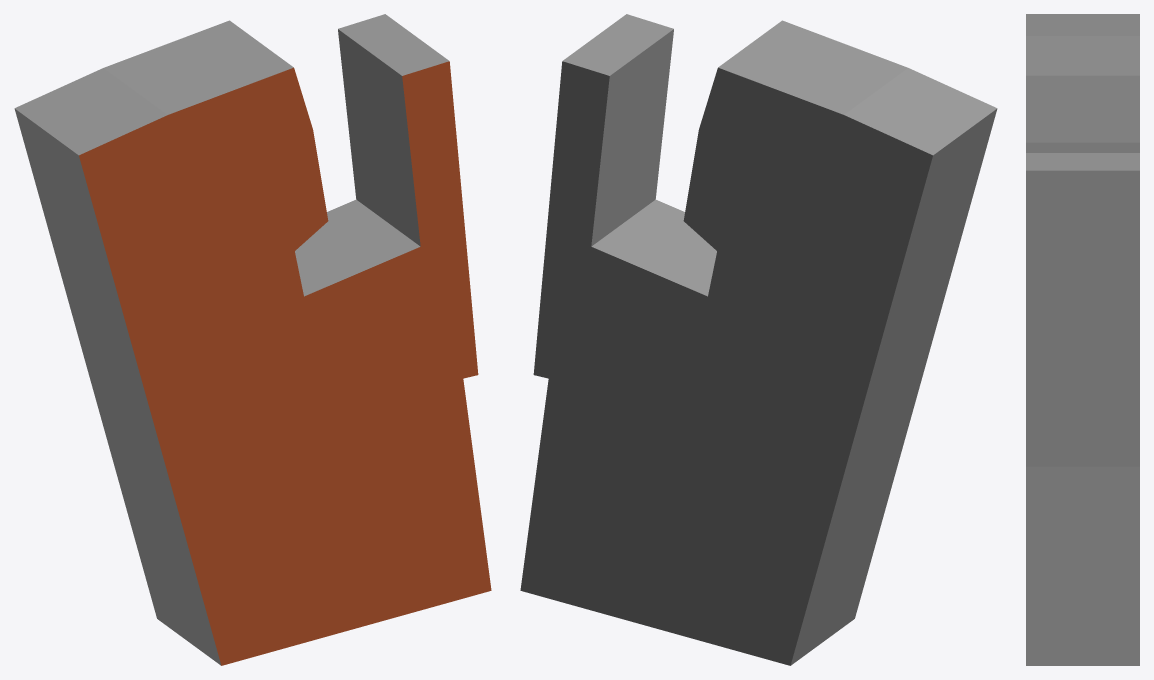
The model's file is construction_6323_assumed_A_Casa_h6m.obj.
3 renders of one model, left to right at view 1: azimuth 30°, elevation 25°; view 2: azimuth 150°, elevation 25°; view 3: azimuth 270°, elevation 25°, orthographic. The views are drawn at different scales.
Visible parts, largest first — view 1: construction_6323_assumed_A_Casa; view 2: construction_6323_assumed_A_Casa; view 3: construction_6323_assumed_A_Casa.
Boxes of the visible parts, x1,y1,x2,y2 form: construction_6323_assumed_A_Casa: (14, 14, 491, 665); construction_6323_assumed_A_Casa: (520, 14, 997, 665); construction_6323_assumed_A_Casa: (1026, 14, 1139, 665).
Size of the model in its own units: 22.2 by 29.85 by 6.
